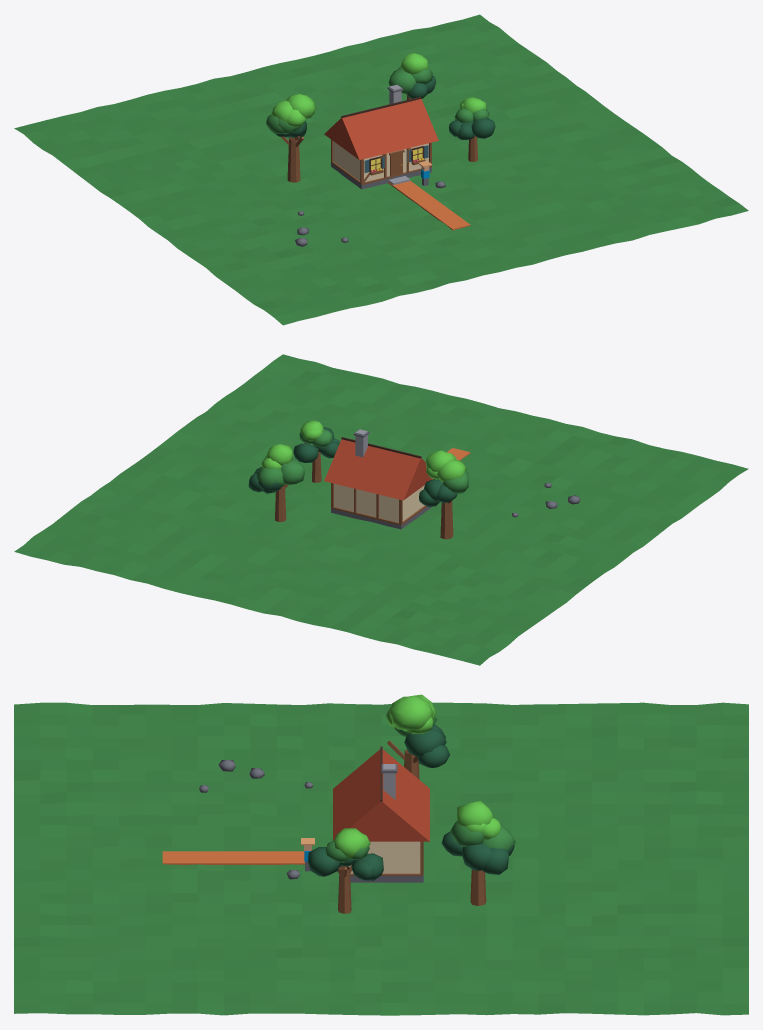
Rendered from village.glb.
The picture shows the model from 3 angles, top to bottom: view 1: azimuth 30°, elevation 25°; view 2: azimuth 150°, elevation 25°; view 3: azimuth 270°, elevation 25°; orthographic projection. The views are drawn at different scales.
Visible parts, largest first — view 1: ground, roof, path, walls, oak_trunk; view 2: ground, roof, walls; view 3: ground, roof, path, walls, oak_leaf9, oak_leaf6, elm_leaf8, birch_leaf7, birch_leaf10, elm_leaf0, birch_trunk, elm_leaf9 (+1 smaller).
Boxes of the visible parts, x1,y1,x2,y2 form: ground: (14,14,748,325); roof: (324,99,438,159); path: (388,180,470,230); walls: (333,141,428,181); oak_trunk: (287,137,300,182); ground: (14,354,748,665); roof: (324,439,432,500); walls: (334,483,424,522); ground: (14,702,748,1015); roof: (333,749,429,841); path: (162,851,304,864); walls: (348,841,420,873); oak_leaf9: (391,696,433,730); oak_leaf6: (404,728,446,756); elm_leaf8: (457,801,493,826); birch_leaf7: (334,828,366,858); birch_leaf10: (308,847,340,876); elm_leaf0: (462,843,492,870); birch_trunk: (338,866,351,913); elm_leaf9: (450,821,484,846).
Size of the model in its own units: 44 by 7.88 by 44.
